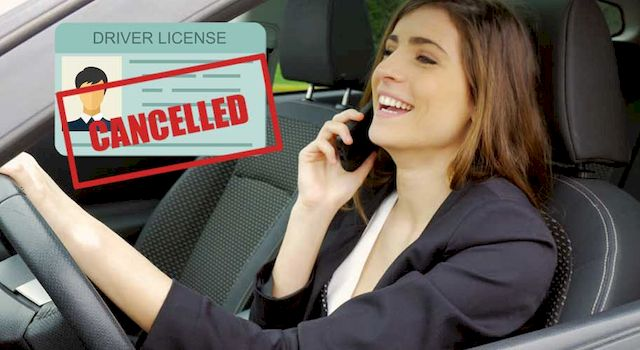phone: (316, 86, 385, 175)
talk: (293, 28, 459, 208)
